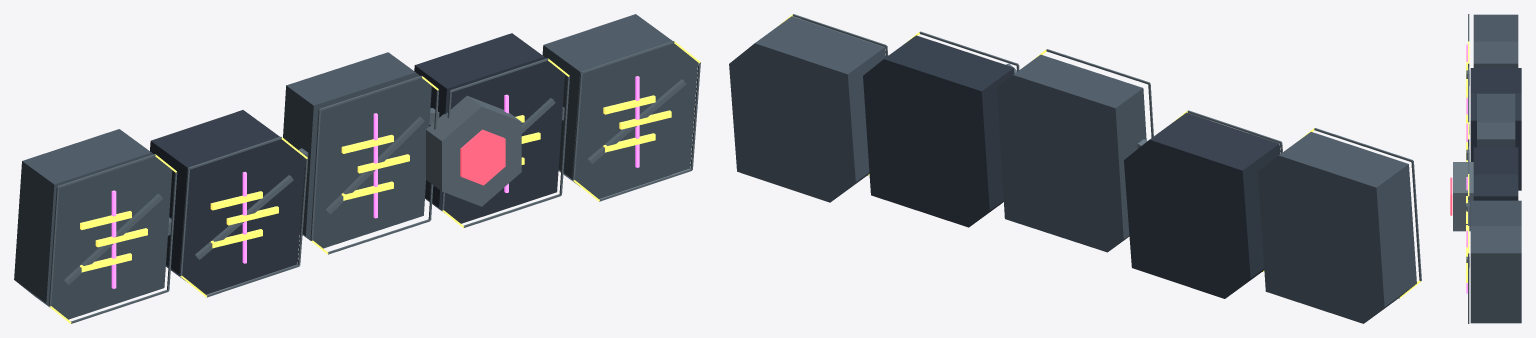
The model's file is altitude_shutter_1.glb.
3 renders of one model, left to right at view 1: azimuth 30°, elevation 25°; view 2: azimuth 150°, elevation 25°; view 3: azimuth 270°, elevation 25°, orthographic. The views are drawn at different scales.
Parts seen in each view (by area): view 1: altitude_shutter_1; view 2: altitude_shutter_1; view 3: altitude_shutter_1.
Part boxes in pixels (bbox=[...]): altitude_shutter_1: bbox=[14, 14, 700, 323]; altitude_shutter_1: bbox=[729, 14, 1421, 323]; altitude_shutter_1: bbox=[1450, 14, 1521, 323].
Size of the model in its own units: 81.6 by 20.2 by 11.15.
